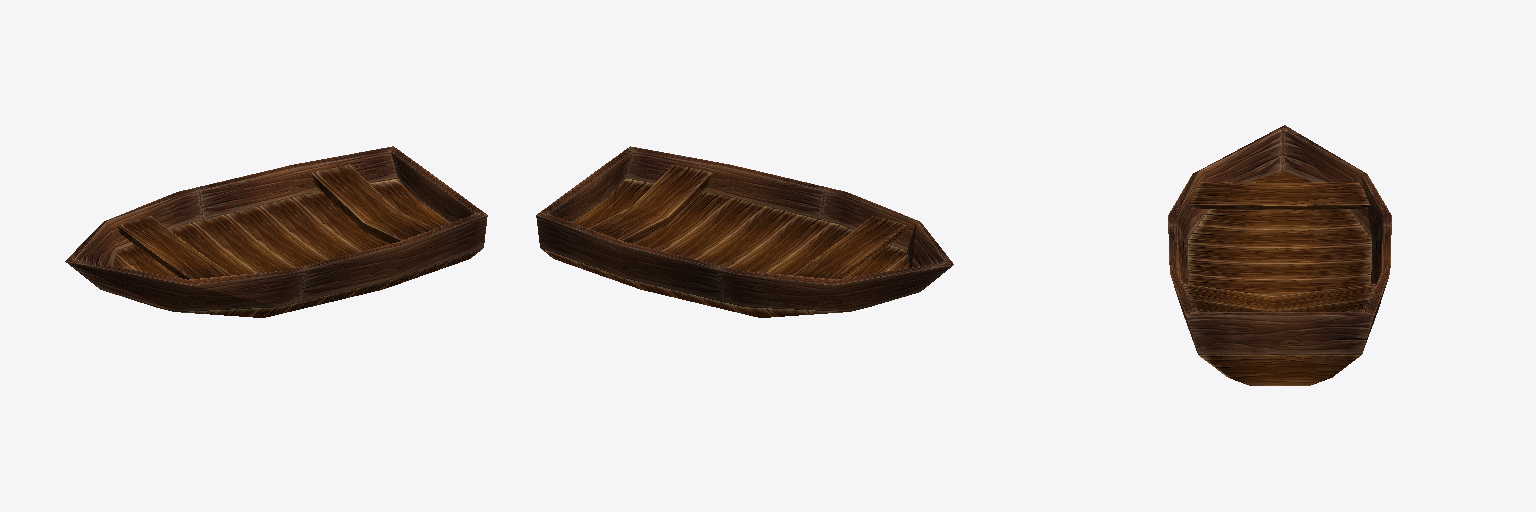
The picture shows the model from 3 angles: view 1: azimuth 30°, elevation 25°; view 2: azimuth 150°, elevation 25°; view 3: azimuth 270°, elevation 25°; orthographic projection.
Parts seen in each view (by area): view 1: rowboat01; view 2: rowboat01; view 3: rowboat01.
Boxes of the visible parts, box(x1,y1,x2,y2) form: rowboat01: box(65, 146, 487, 317); rowboat01: box(536, 146, 953, 317); rowboat01: box(1168, 125, 1391, 385).
Bounding box in the file's own units: 8.34 × 1.66 × 4.29.
Materials: 2 (2 with a texture image).